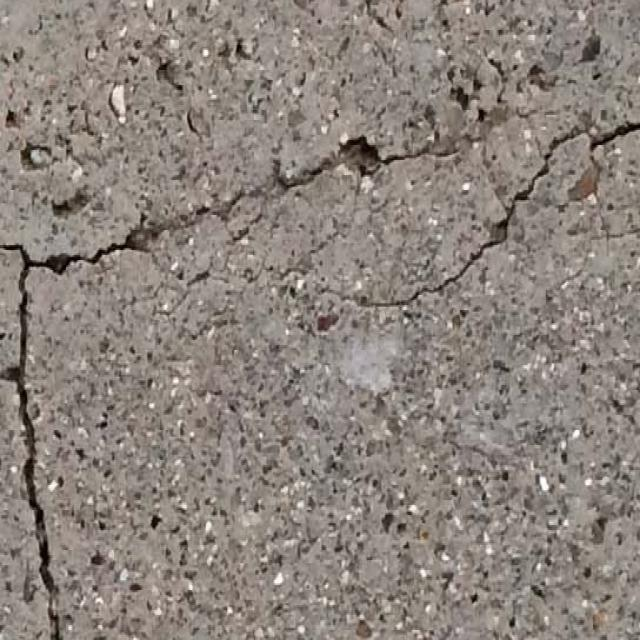crack: (321, 116, 635, 312), (2, 238, 77, 637), (78, 153, 320, 272)
spall: (332, 134, 387, 182)
